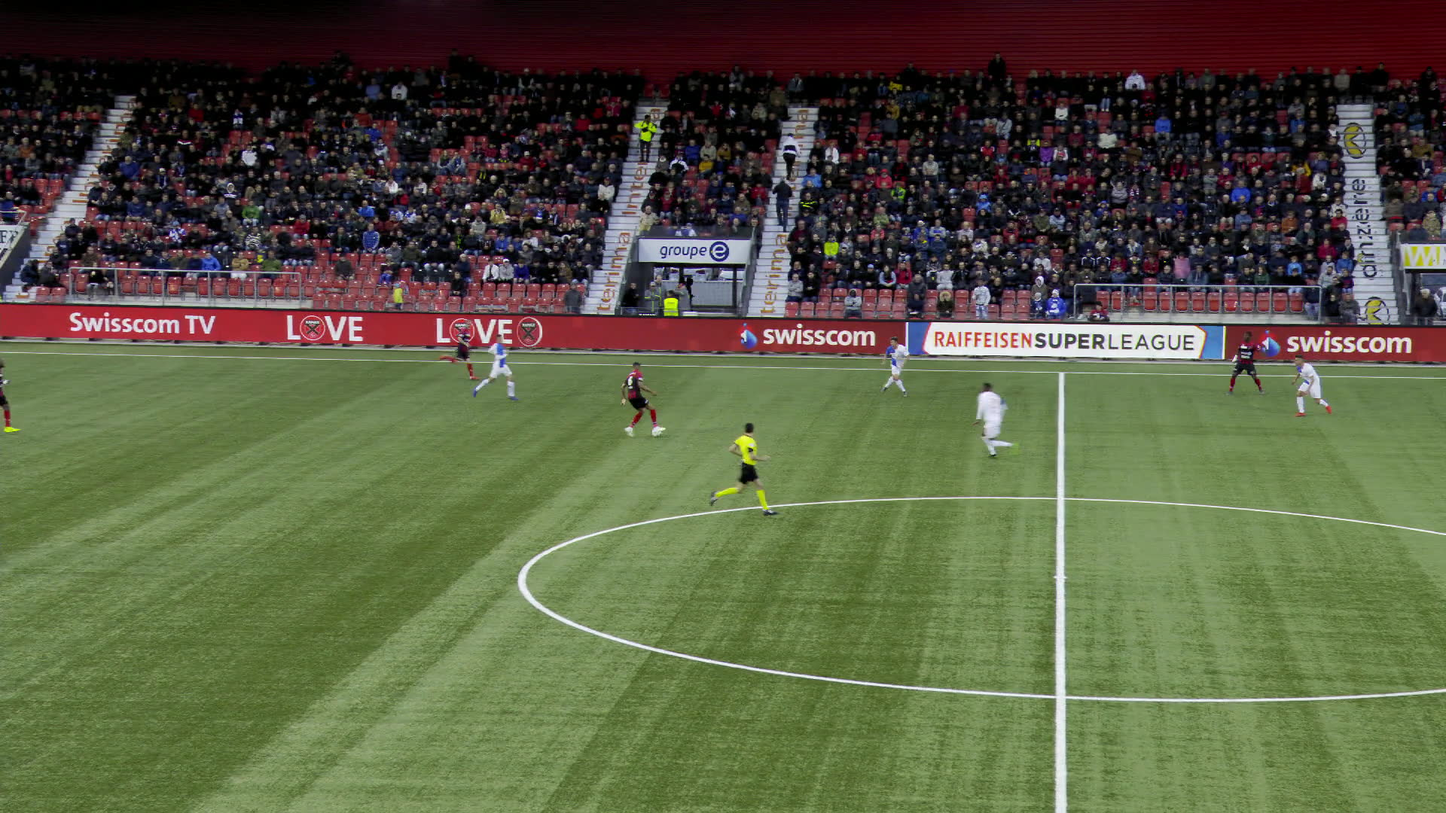ball: (641, 420, 651, 428)
player: (976, 382, 1035, 460), (621, 364, 663, 437), (432, 319, 474, 379), (1292, 353, 1326, 417), (1231, 331, 1263, 394), (479, 335, 508, 402), (883, 337, 908, 394), (0, 360, 20, 431)
referee: (710, 423, 763, 518)
